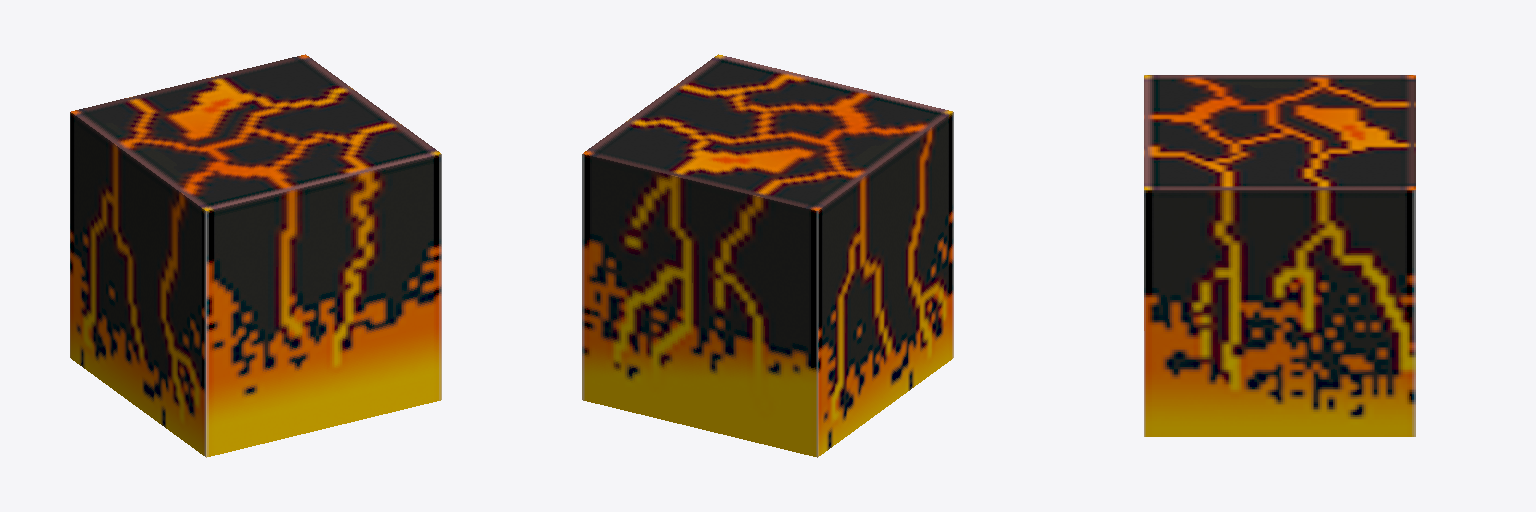
3 views of the same model, side by side, from view 1: azimuth 30°, elevation 25°; view 2: azimuth 150°, elevation 25°; view 3: azimuth 270°, elevation 25° (orthographic).
Visible parts, largest first — view 1: lava01; view 2: lava01; view 3: lava01.
Boxes of the visible parts, box(x1,y1,x2,y2) form: lava01: box(70, 54, 441, 457); lava01: box(582, 54, 953, 457); lava01: box(1144, 75, 1415, 436).
Bounding box in the file's own units: 1 × 1 × 1.
Materials: 1 (1 with a texture image).